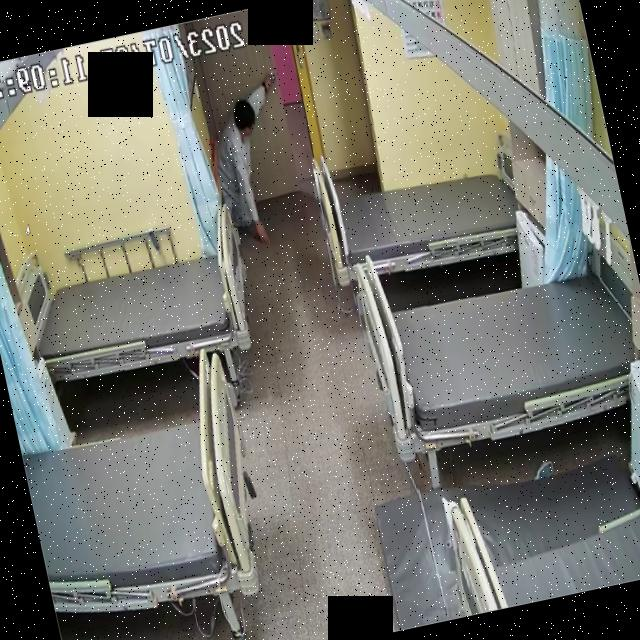bed: (8, 345, 274, 630), (361, 254, 640, 458), (8, 228, 262, 394), (319, 150, 524, 286)
danger: (198, 80, 304, 256)
patient: (198, 77, 304, 254)
